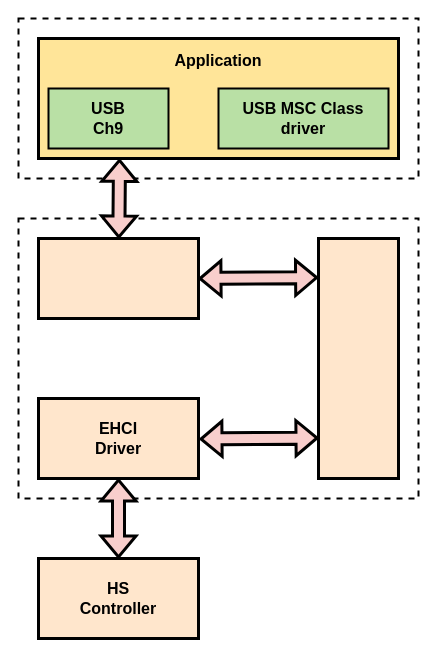
This 436x657 diagram has some shape labels left out. Here are the shapes that lost their labels. From the top down, the centre of each, then its label:
[118,278]: Common Controller Driver
[358,358]: SDK OSA
